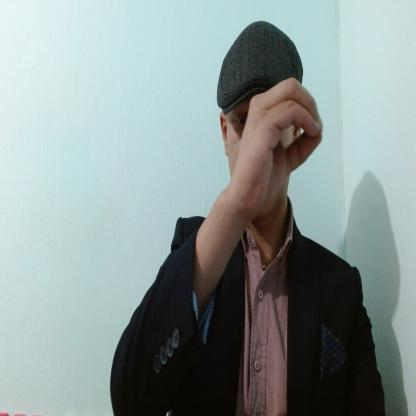O: (237, 76, 326, 222)
